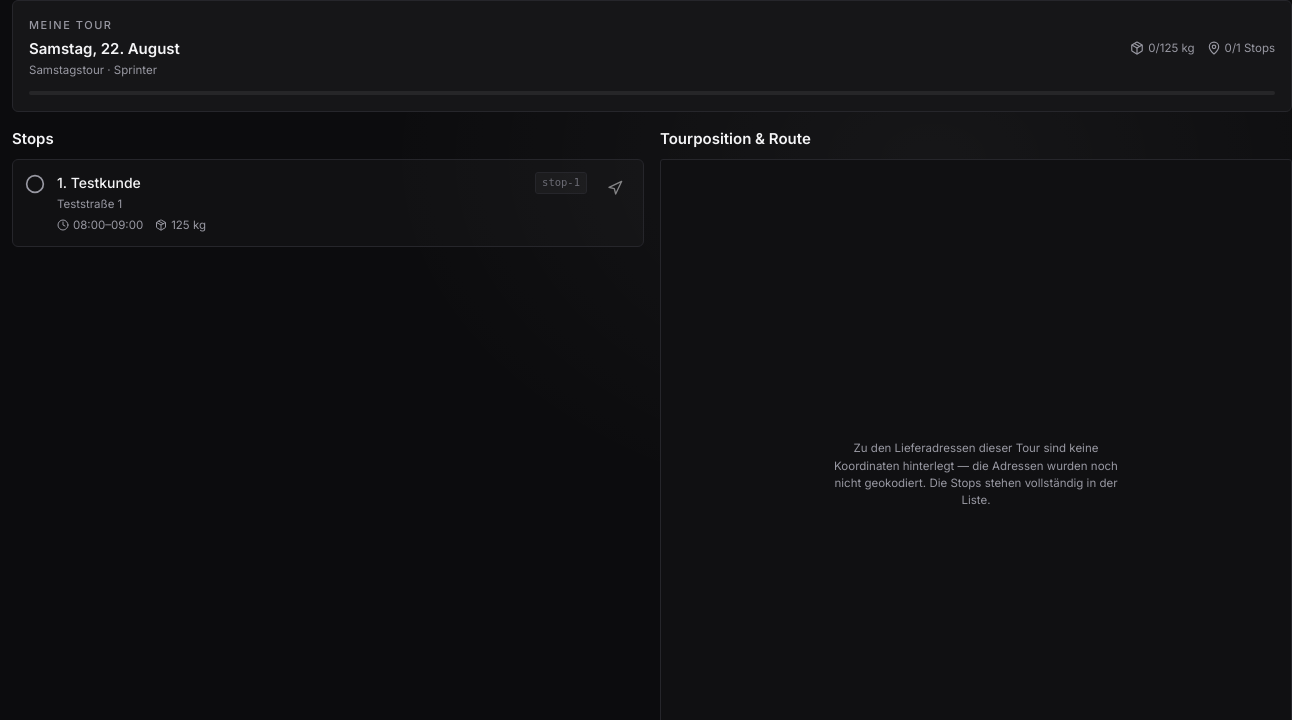
Test: DriverTourView › persistiert den Stopabschluss per RPC und lädt den gespeicherten Stand neu
Click the button titled "Als erledigt speichern" at [35, 184], box [25,174,45,194]
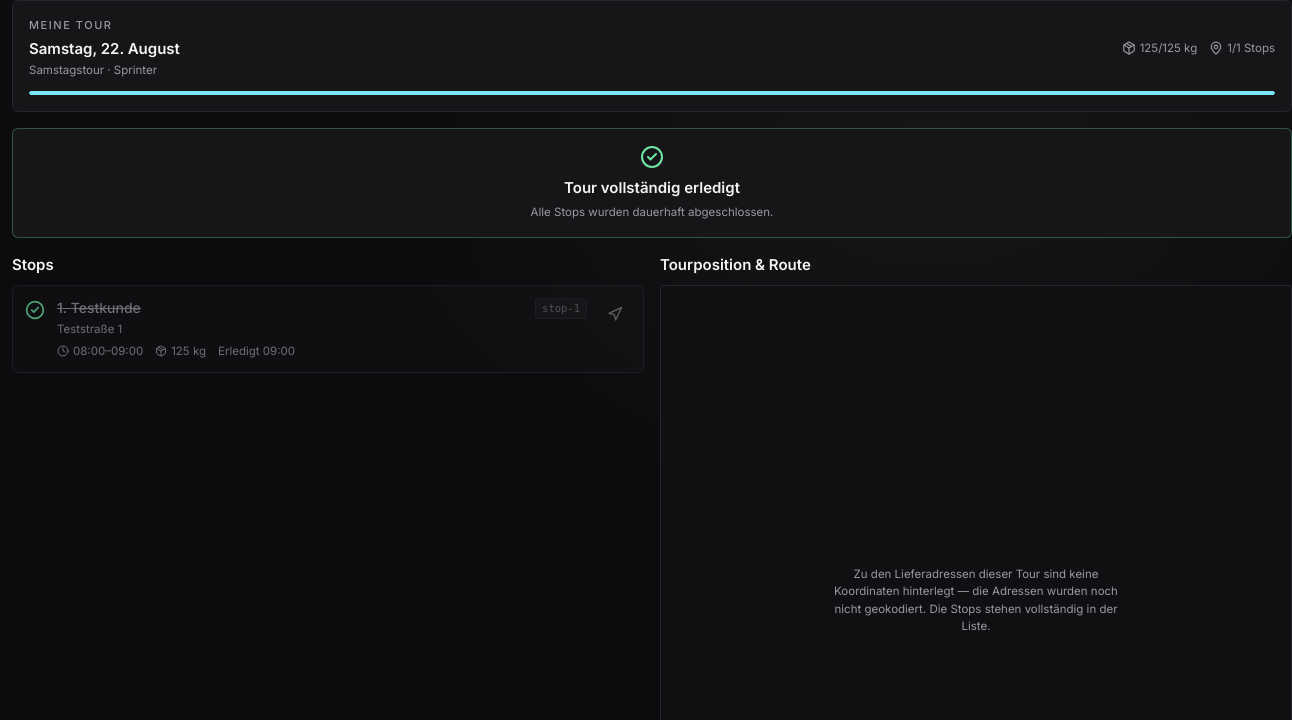
Expected: the text "Tour vollständig erledigt" is shown, [564,178,740,197]
Expected: the button titled "Dauerhaft erledigt" is disabled, [25,300,45,320]
